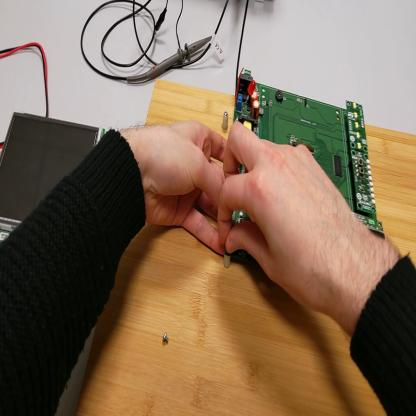hand: (220, 113, 357, 315), (137, 118, 233, 251)
low voltage board: (231, 1, 385, 265)
oscilloscope probe tip: (130, 36, 213, 84)
working area: (76, 81, 415, 415)
